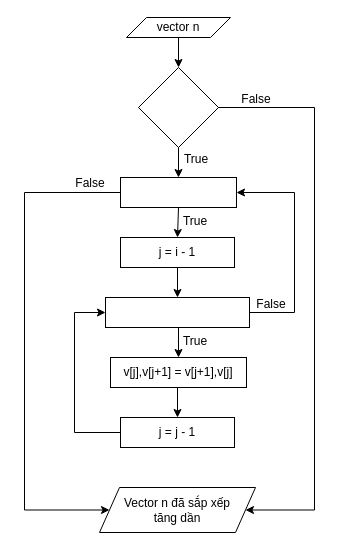
The diagram is 340 pixels wide and 550 high, and some of its shapes have lost their labels. The shapes that lost their labels are listed below. From the top down, each one's centre as x and y in pixels, then its label:
(x=178, y=107): len(n) > 1
(x=178, y=192): i in range(len(n))
(x=177, y=312): j >= 0 and v[j+1] < v[j]
